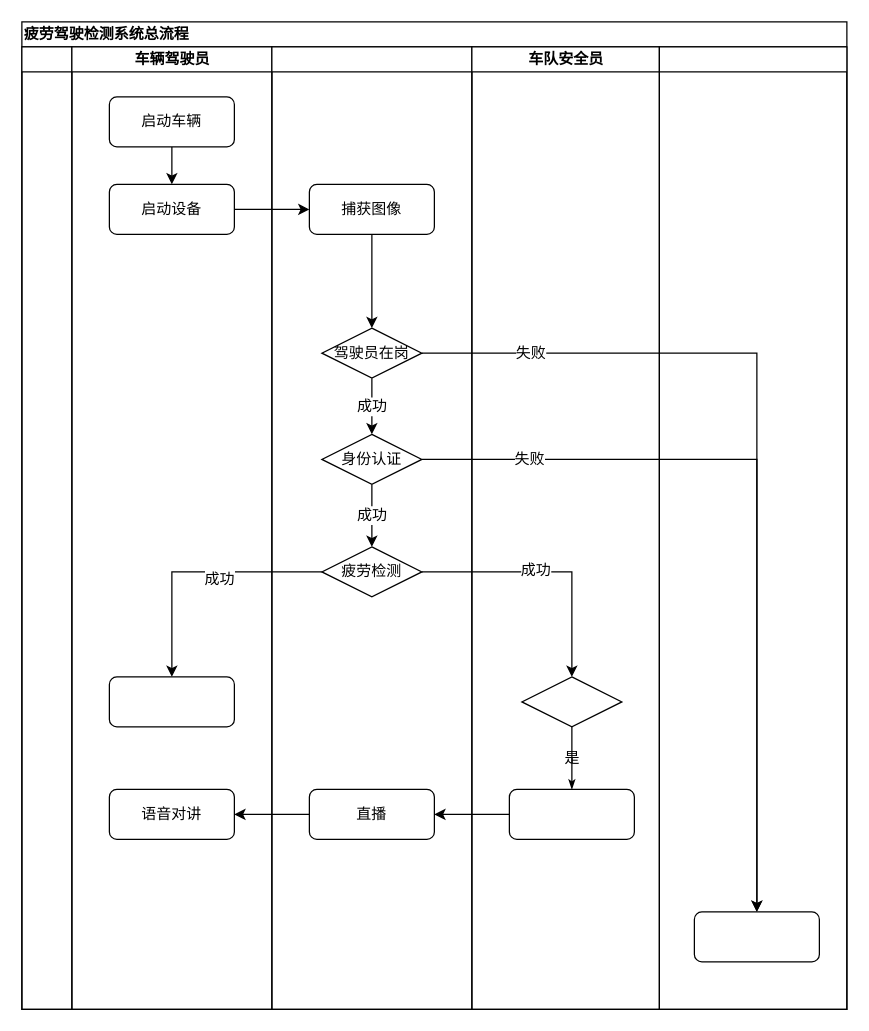
This 869x1031 diagram has some shape labels left out. The shapes that lost their labels are listed below. From the top down, each one's box as (x1, y1, x2, y2) in pixels, then its label:
(271, 46, 472, 1009): 终端设备
(108, 676, 234, 727): 声音预警
(521, 676, 622, 727): 二级预警
(508, 788, 634, 839): 人工干预
(693, 911, 819, 962): 结束
